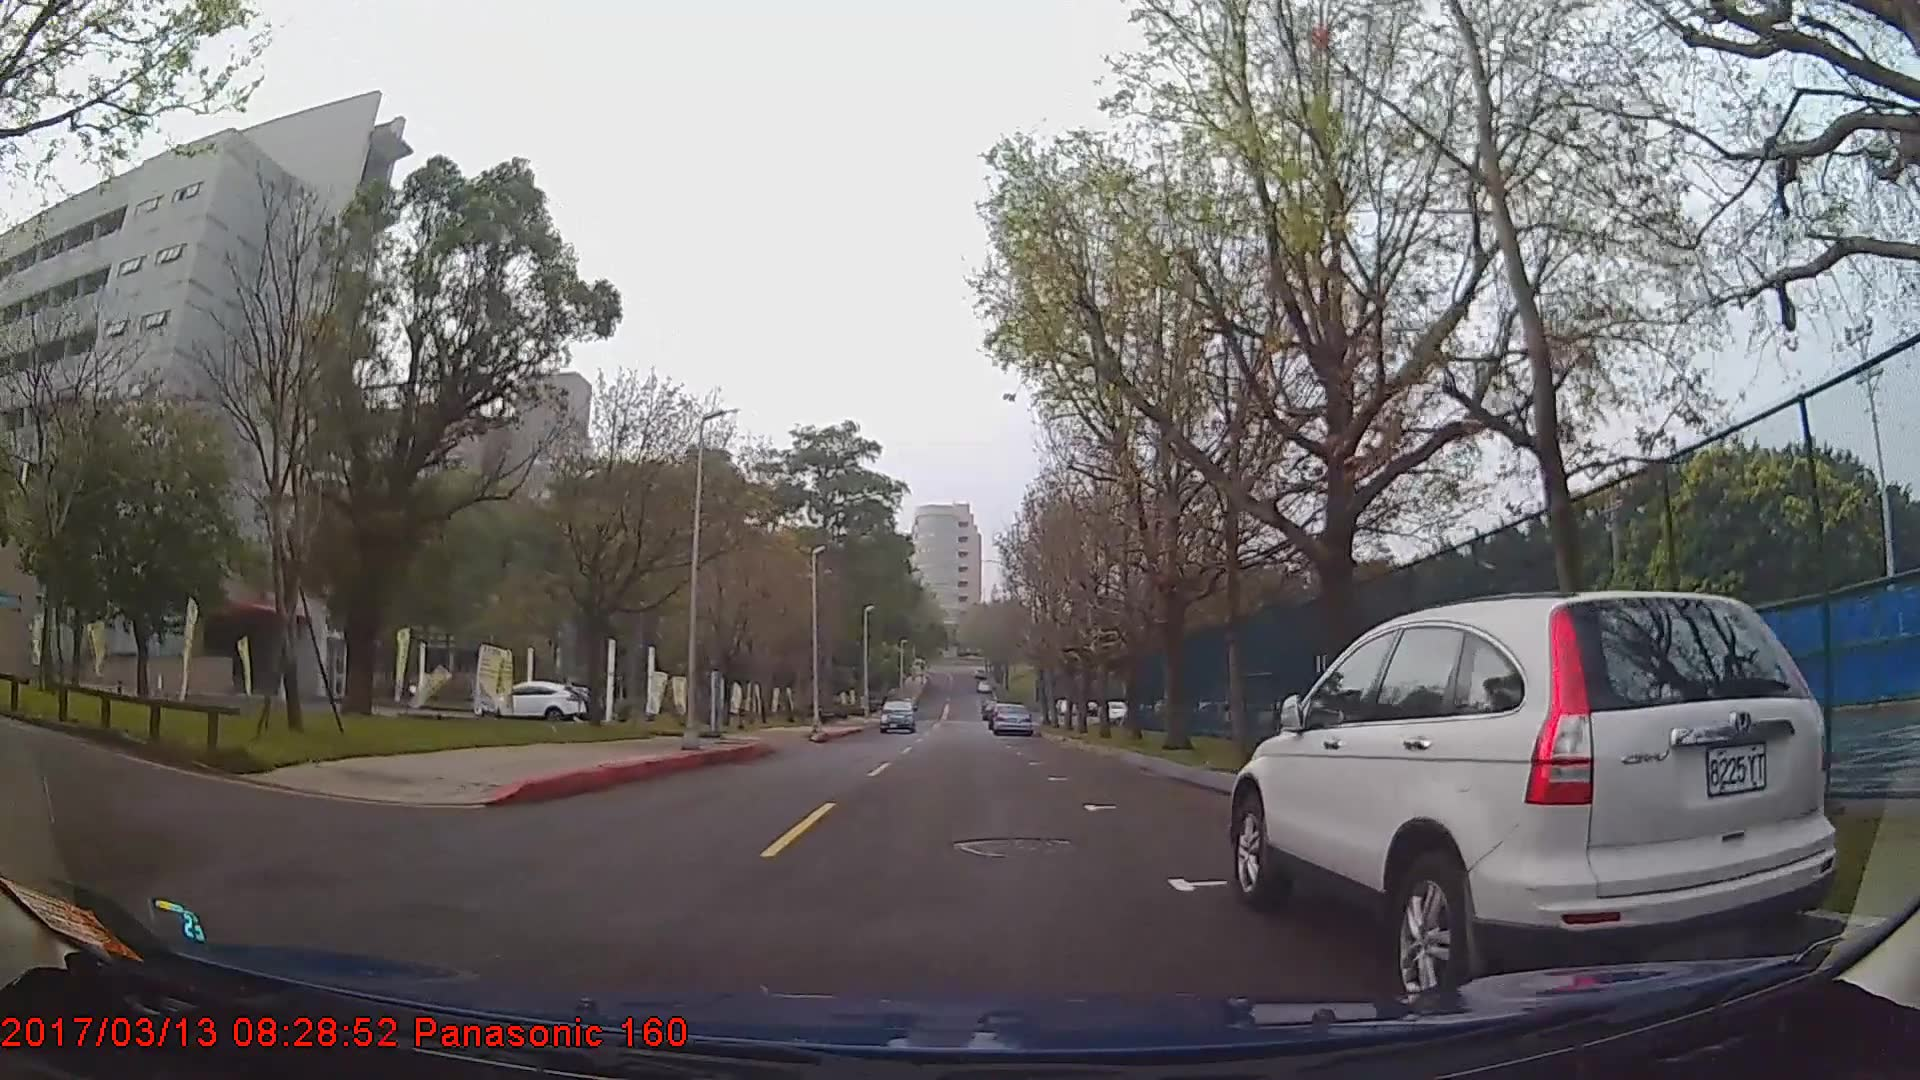vehicle: (1226, 589, 1840, 1013), (477, 679, 584, 723), (992, 699, 1031, 735), (880, 698, 915, 732)
